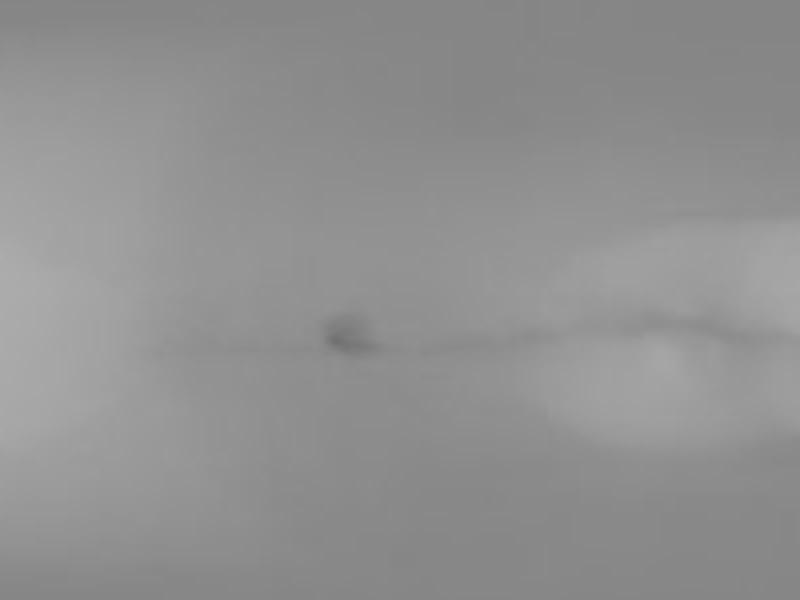defect: (322, 310, 373, 354)
